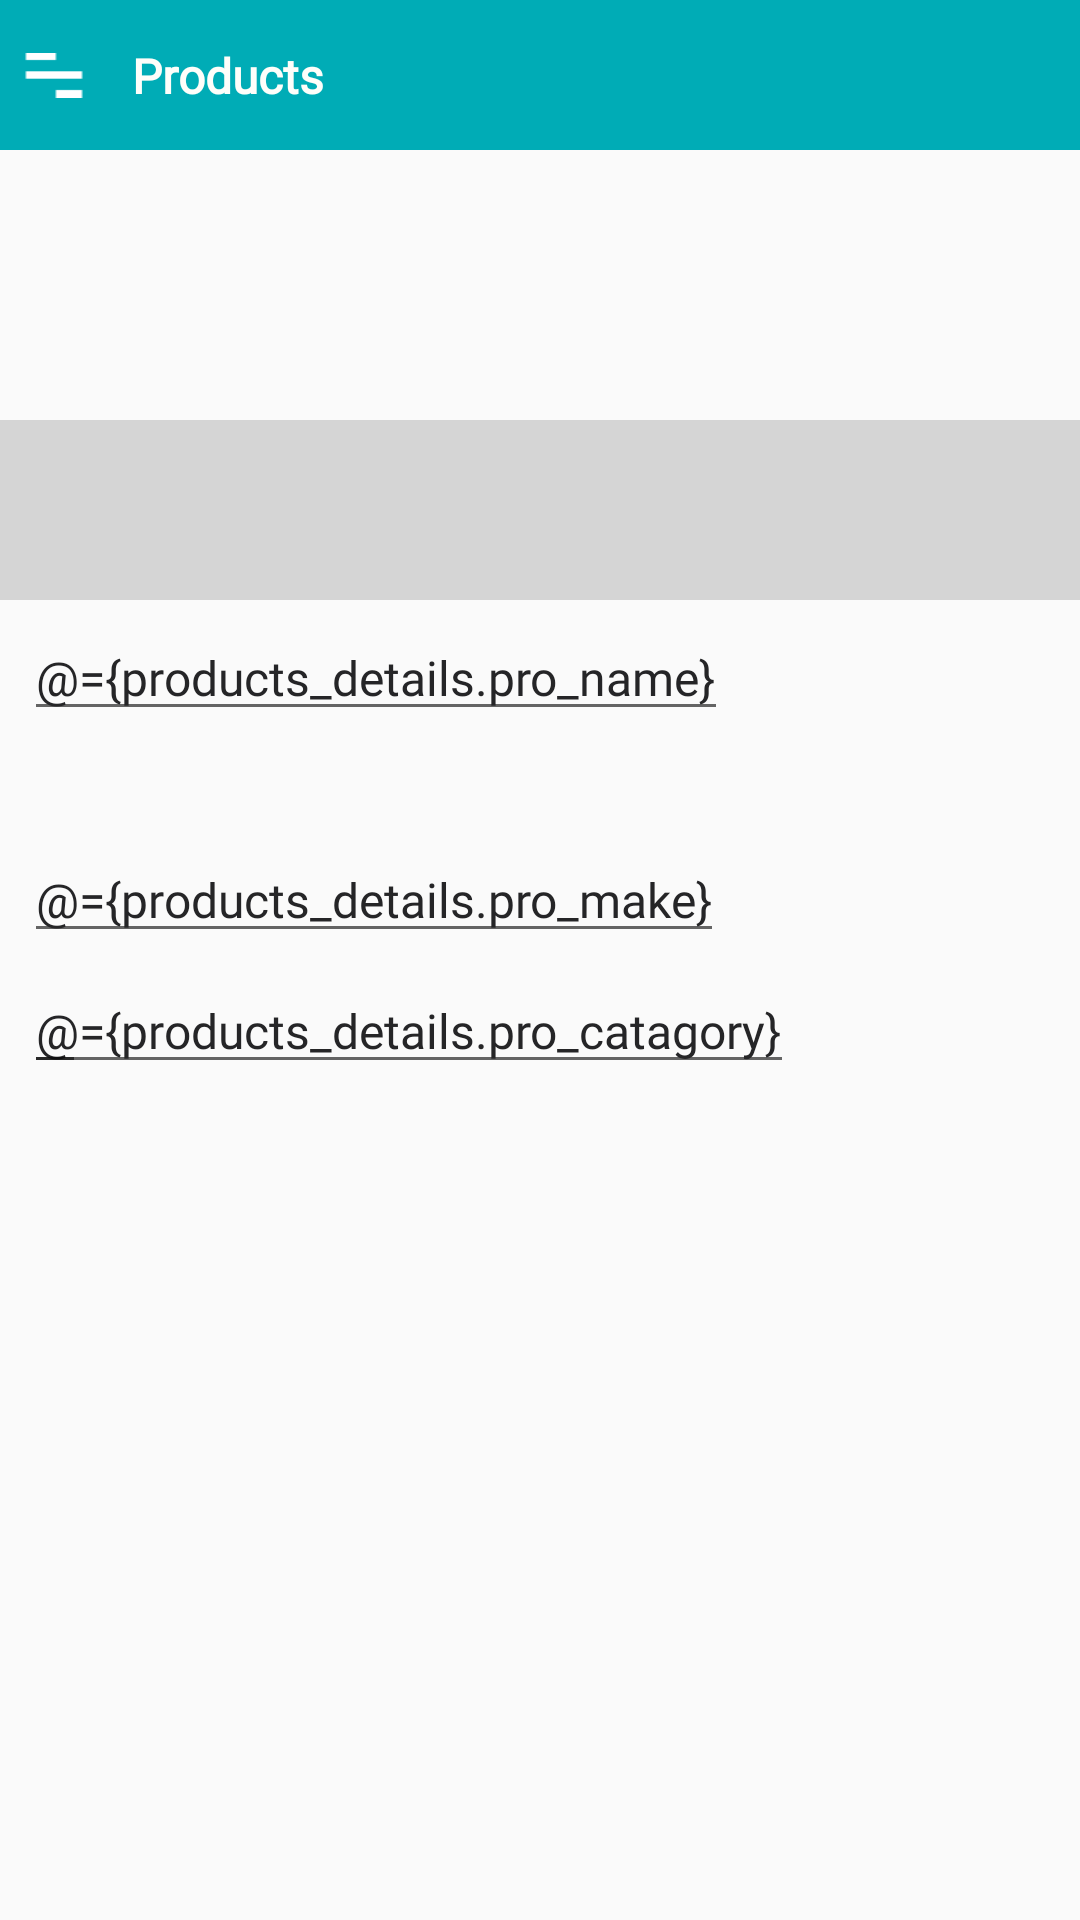

Where icons sit on this 1080 x 1920 app screen, as (x1, y1, x2, y2):
menu: (25, 53, 83, 98)
